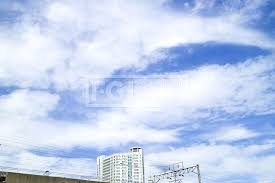sky: (1, 2, 275, 159)
